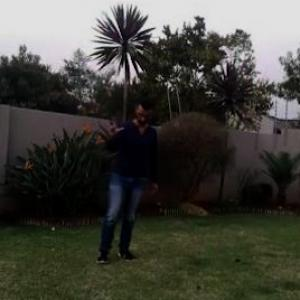land_hand: (103, 110, 126, 141)
